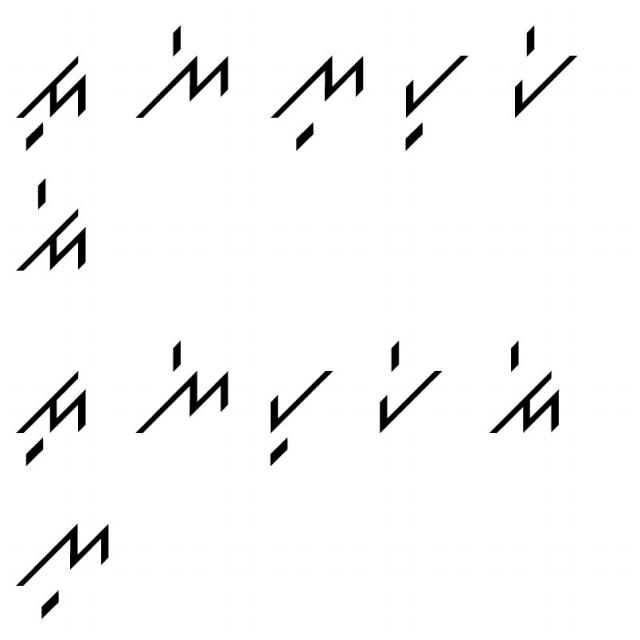de: (13, 170, 107, 283), (488, 336, 568, 442)
du: (7, 356, 96, 468), (12, 42, 95, 154)
ne: (126, 20, 232, 122), (135, 334, 234, 438)
nu: (268, 45, 372, 154), (8, 522, 120, 623)
pe: (372, 338, 449, 444), (504, 21, 584, 122)
pu: (254, 355, 341, 469), (392, 47, 472, 154)
